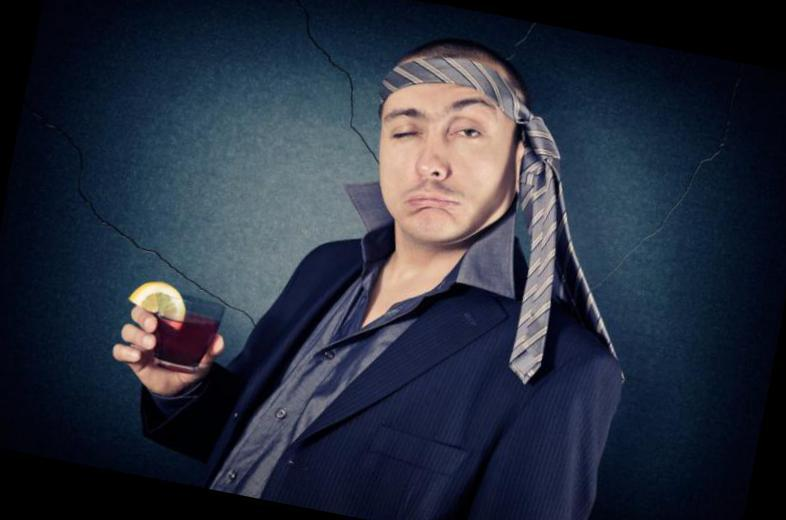Drunk: (384, 91, 499, 237)
